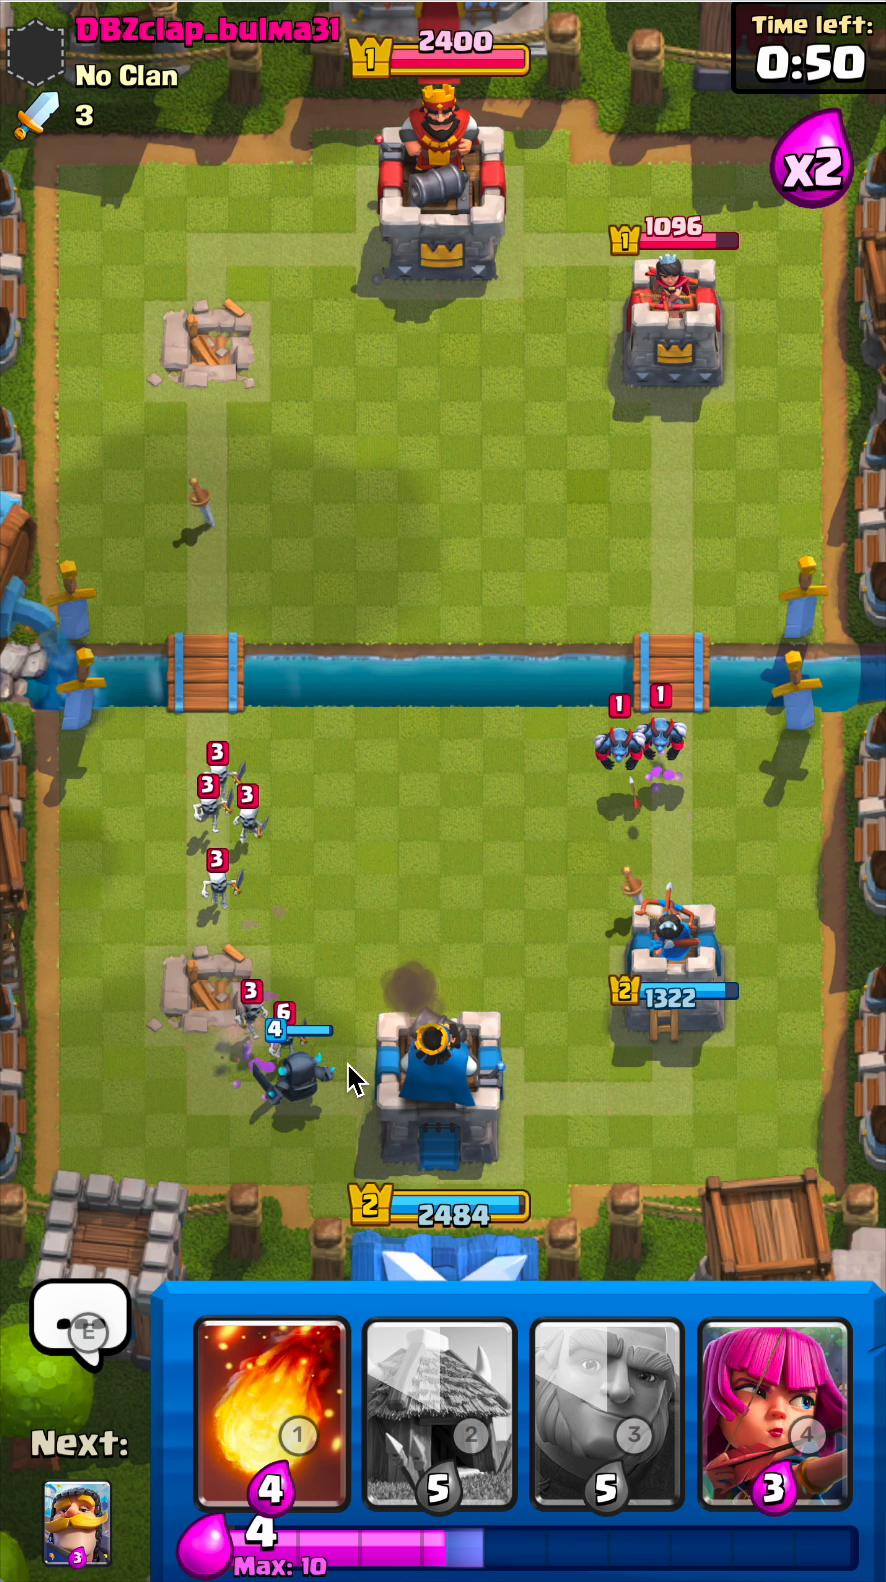gargouille: (584, 724, 650, 778), (632, 715, 694, 769)
mini_PEKKA: (244, 1051, 333, 1106)
squelette: (258, 1013, 309, 1059), (195, 871, 250, 912), (192, 791, 233, 840), (234, 990, 270, 1043), (201, 755, 249, 794), (232, 806, 270, 840)
